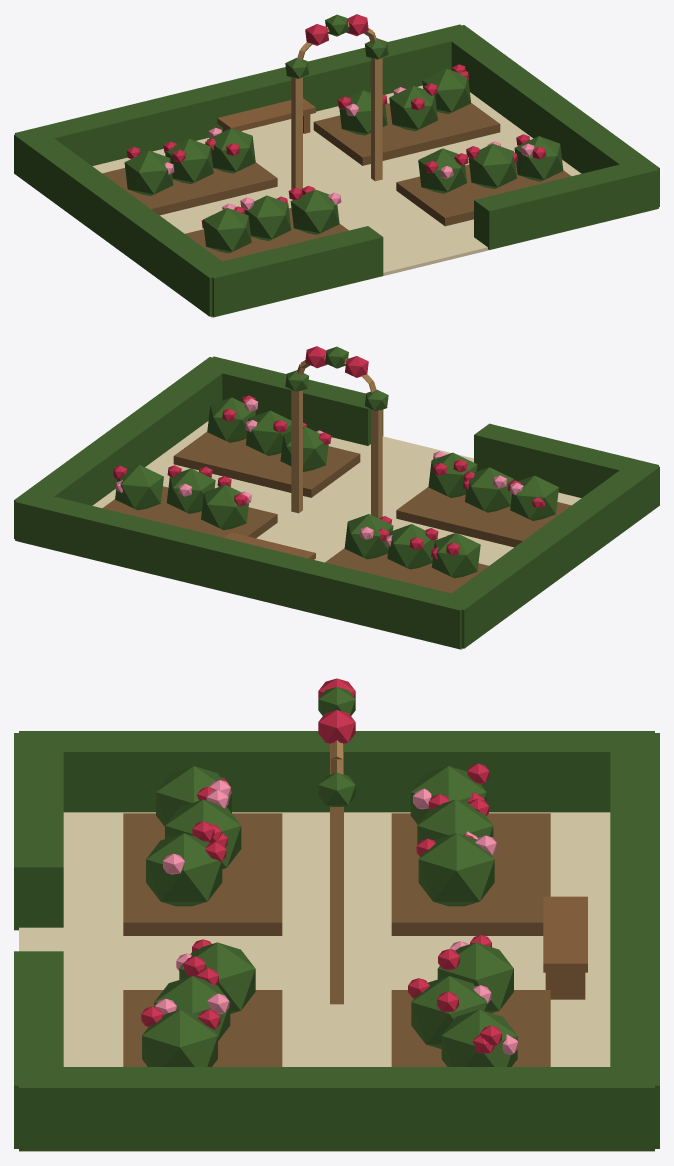
Rendered from castle_rose_garden.glb.
The picture shows the model from 3 angles, top to bottom: view 1: azimuth 30°, elevation 25°; view 2: azimuth 150°, elevation 25°; view 3: azimuth 270°, elevation 25°; orthographic projection. The views are drawn at different scales.
Visible parts, largest first — view 1: castle_rose_garden; view 2: castle_rose_garden; view 3: castle_rose_garden.
Part boxes in pixels (bbox=[...]): castle_rose_garden: bbox=[14, 14, 659, 317]; castle_rose_garden: bbox=[14, 346, 659, 649]; castle_rose_garden: bbox=[14, 678, 659, 1151].
Size of the model in its own units: 8.5 by 3.2 by 6.5.
